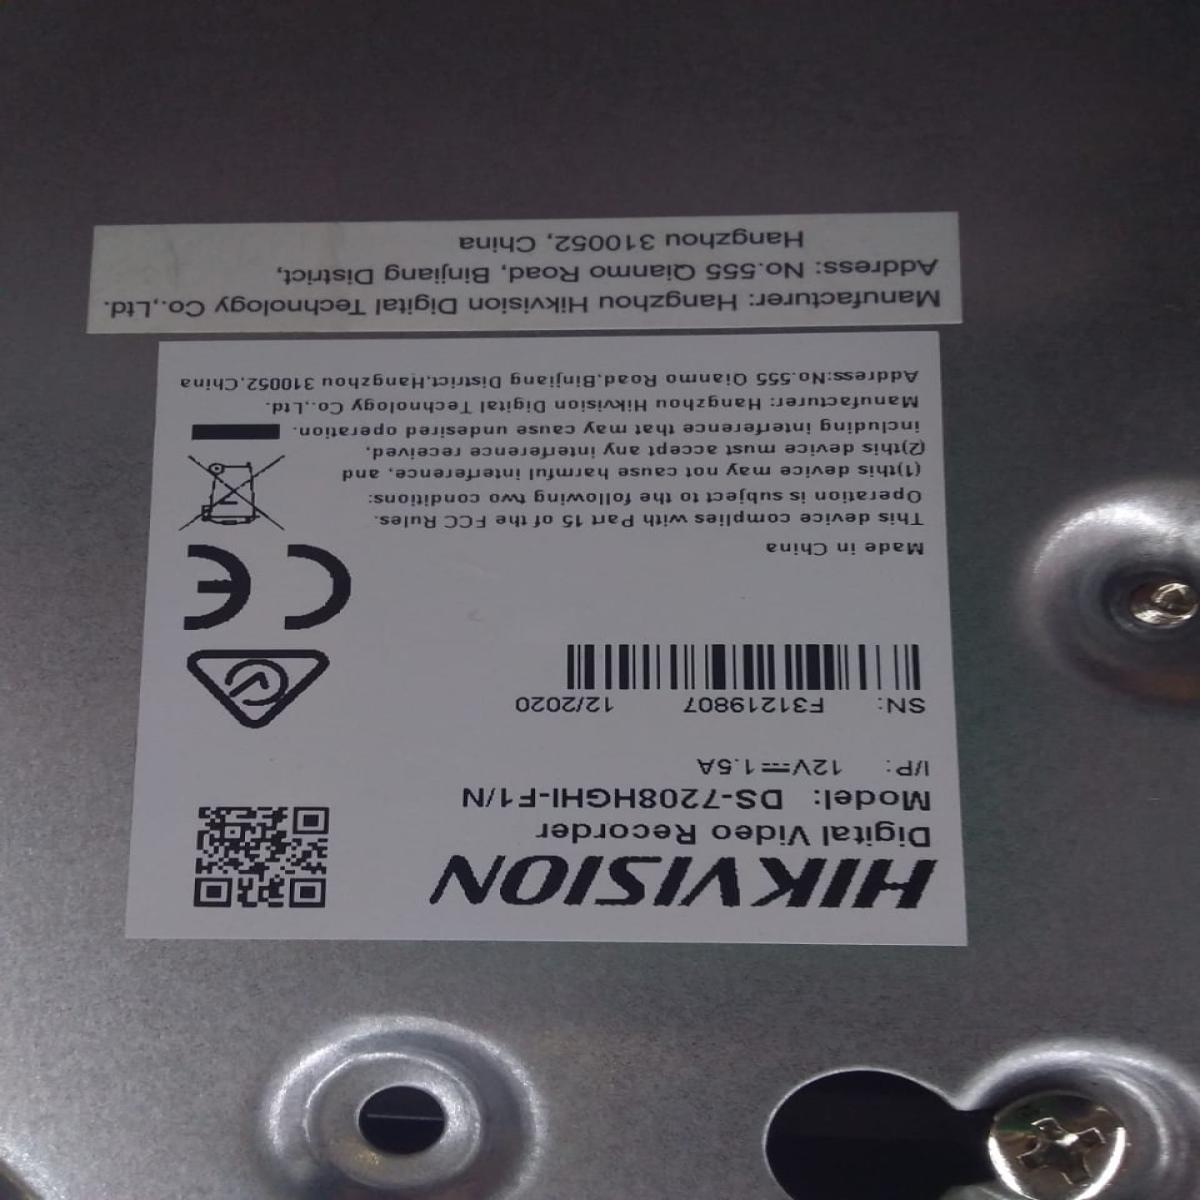Barcode: (540, 629, 933, 699)
Label: (147, 544, 964, 944)
